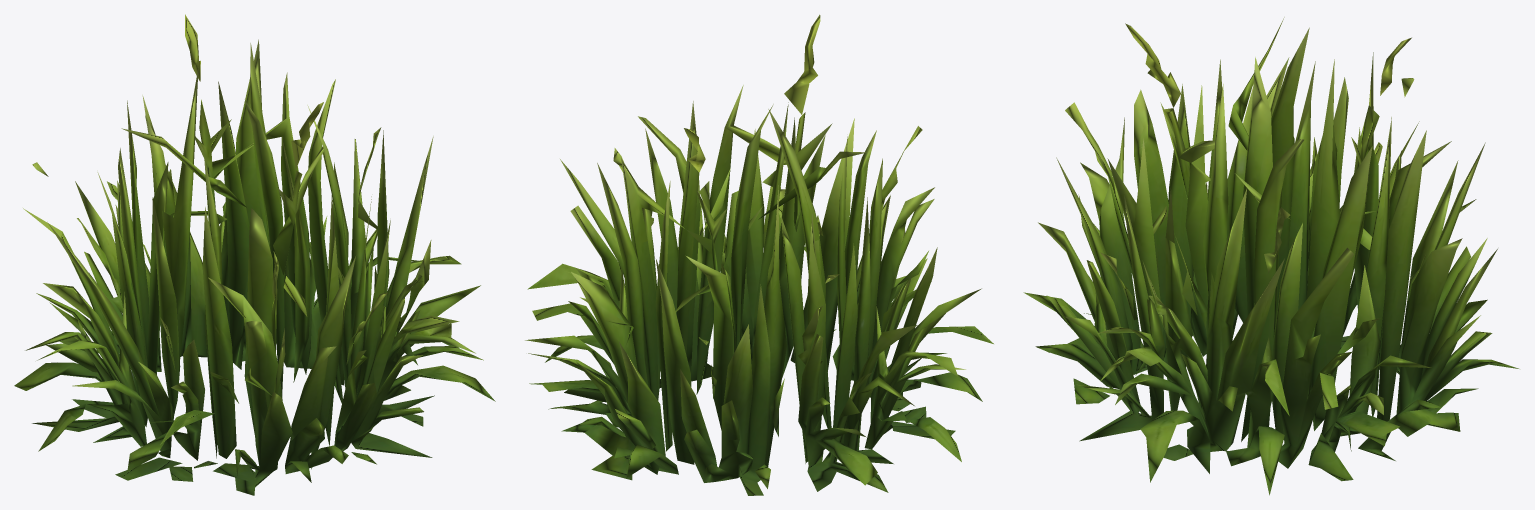
The model's file is hd_grass.glb.
The picture shows the model from 3 angles, left to right: view 1: azimuth 30°, elevation 25°; view 2: azimuth 150°, elevation 25°; view 3: azimuth 270°, elevation 25°; orthographic projection. The views are drawn at different scales.
Parts seen in each view (by area): view 1: tripo_node_cf9f7f0c-3817-4bf8-a87d-16263c8c99df; view 2: tripo_node_cf9f7f0c-3817-4bf8-a87d-16263c8c99df; view 3: tripo_node_cf9f7f0c-3817-4bf8-a87d-16263c8c99df.
Boxes of the visible parts, bbox=[...] form: tripo_node_cf9f7f0c-3817-4bf8-a87d-16263c8c99df: bbox=[14, 14, 495, 495]; tripo_node_cf9f7f0c-3817-4bf8-a87d-16263c8c99df: bbox=[525, 14, 993, 495]; tripo_node_cf9f7f0c-3817-4bf8-a87d-16263c8c99df: bbox=[1023, 17, 1518, 495].
Size of the model in its own units: 1 by 0.8192 by 0.9628.
Materials: 1 (1 with a texture image).
